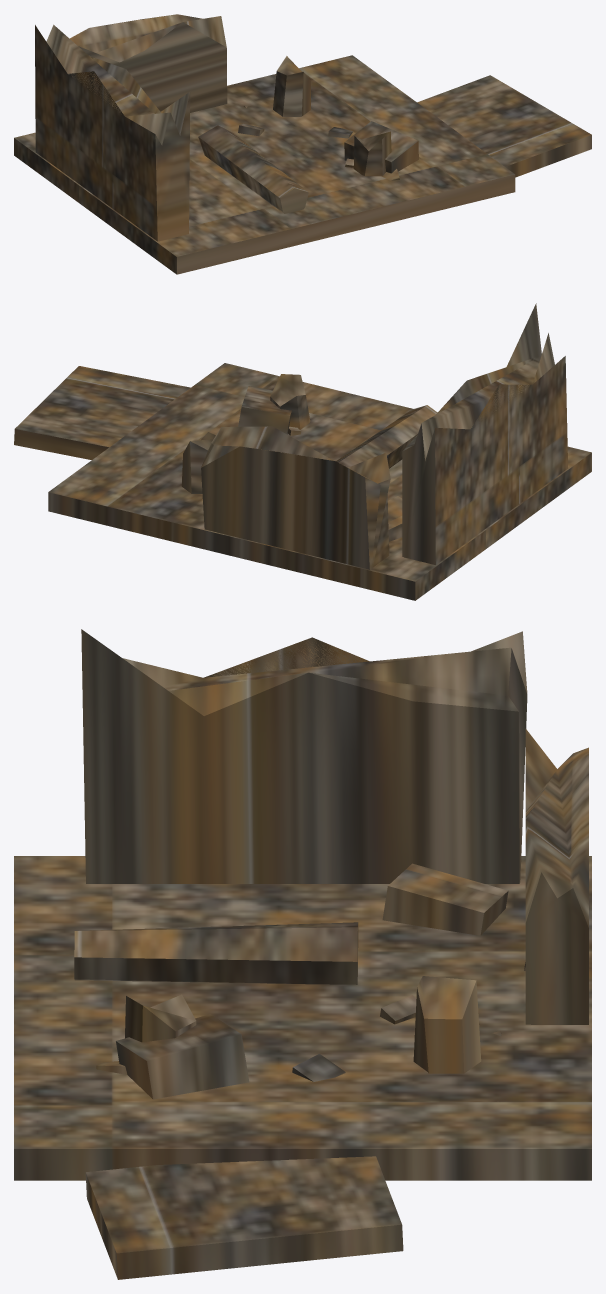
Rendered from ruins_corner.glb.
The picture shows the model from 3 angles, top to bottom: view 1: azimuth 30°, elevation 25°; view 2: azimuth 150°, elevation 25°; view 3: azimuth 270°, elevation 25°; orthographic projection. The views are drawn at different scales.
Parts seen in each view (by area): view 1: RuinChunk-col; view 2: RuinChunk-col; view 3: RuinChunk-col.
Part boxes in pixels (<box>): RuinChunk-col: <box>14,14,591,274</box>; RuinChunk-col: <box>14,303,591,600</box>; RuinChunk-col: <box>14,629,591,1279</box>.
Size of the model in its own units: 7.88 by 2.86 by 5.
1 material, 1 textured.
